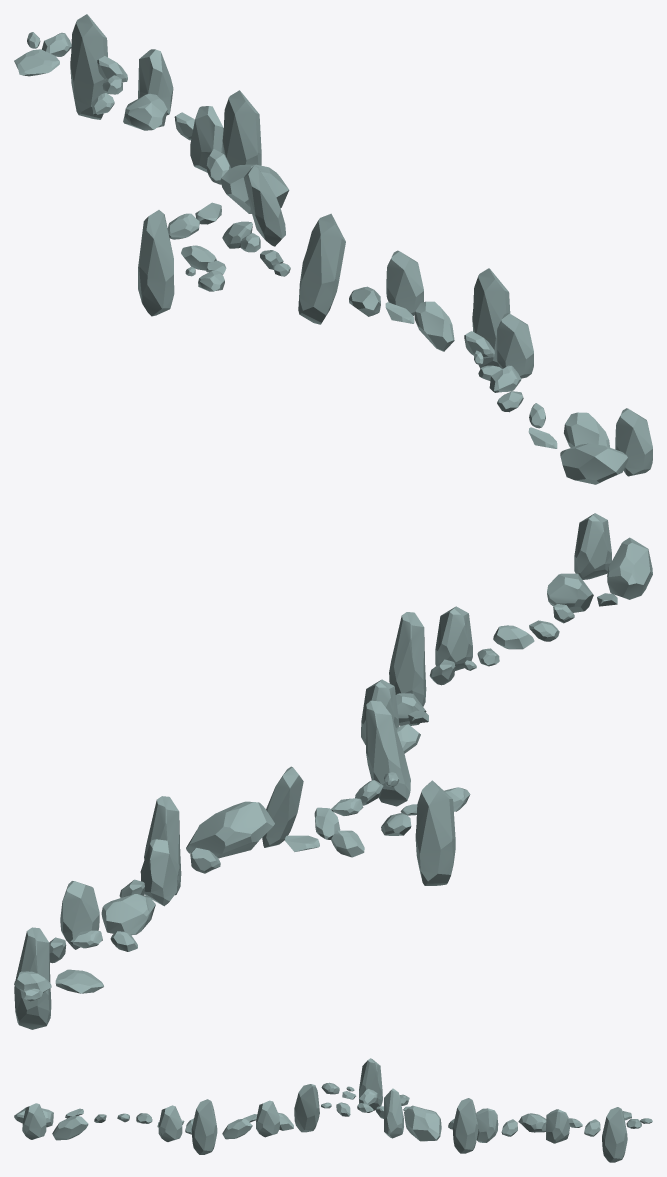
The model's file is Rock1.fbx.
The picture shows the model from 3 angles, top to bottom: view 1: azimuth 30°, elevation 25°; view 2: azimuth 150°, elevation 25°; view 3: azimuth 270°, elevation 25°; orthographic projection. The views are drawn at different scales.
Parts seen in each view (by area): view 1: MainStage_Rock_1.002; view 2: MainStage_Rock_1.002; view 3: MainStage_Rock_1.002.
Part boxes in pixels (x1,y1,x2,y2): MainStage_Rock_1.002: [14, 14, 652, 484]; MainStage_Rock_1.002: [14, 513, 652, 1029]; MainStage_Rock_1.002: [14, 1058, 652, 1162].
Size of the model in its own units: 18332 by 10447 by 89702.
